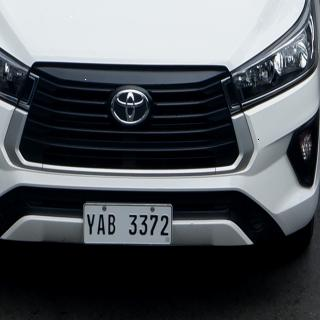license: (84, 204, 174, 246)
